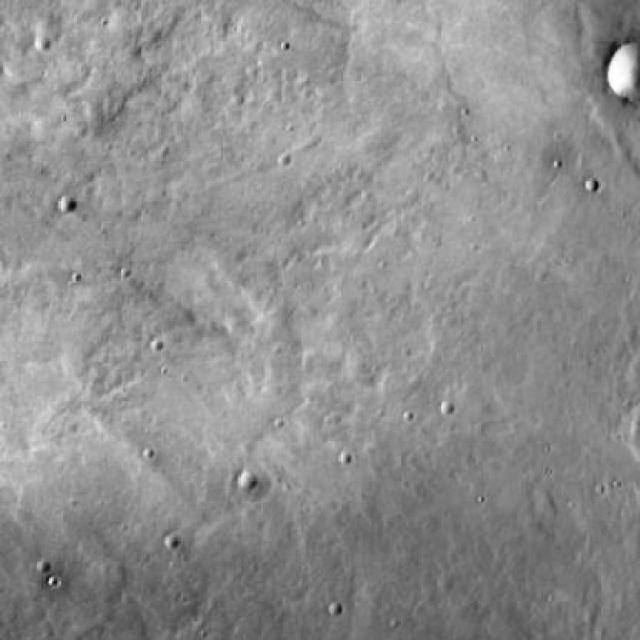crater: (600, 43, 640, 106), (232, 472, 254, 494), (58, 195, 76, 213)
